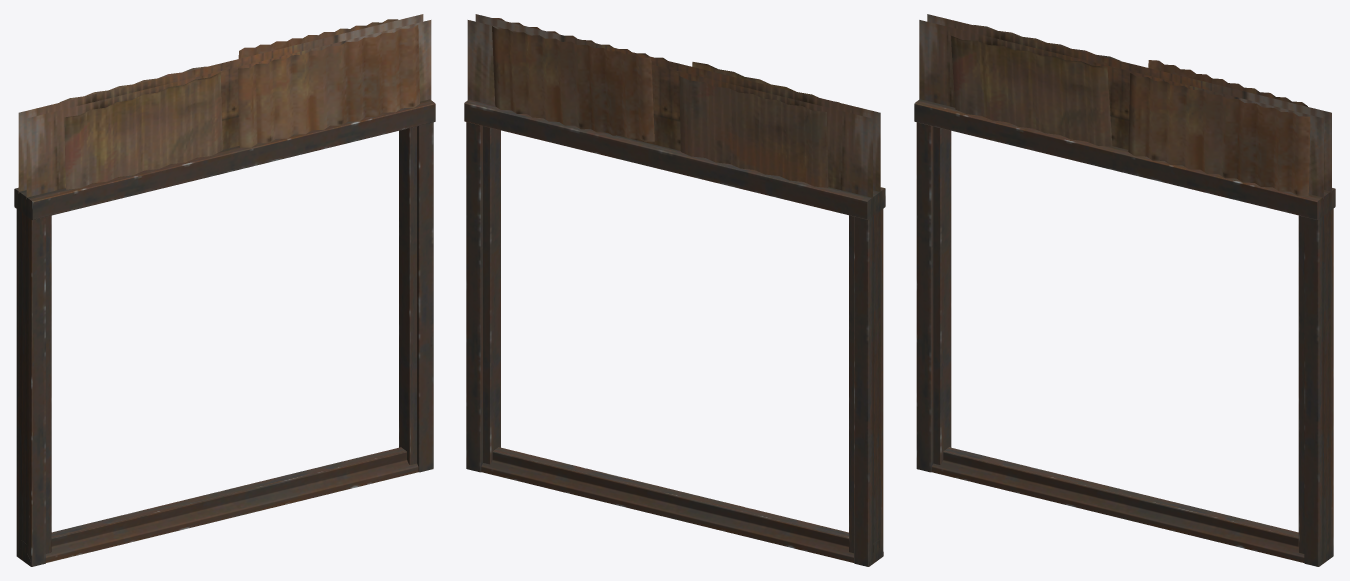
The model's file is metal_double_door.gltf.
3 renders of one model, left to right at view 1: azimuth 30°, elevation 25°; view 2: azimuth 150°, elevation 25°; view 3: azimuth 330°, elevation 25°, orthographic.
Parts seen in each view (by area): view 1: Collection.smd; view 2: Collection.smd; view 3: Collection.smd.
Boxes of the visible parts, left/top/right/bottom form: Collection.smd: left=14, top=14, right=435, bottom=566; Collection.smd: left=464, top=14, right=885, bottom=566; Collection.smd: left=914, top=14, right=1335, bottom=566.
Bounding box in the file's own units: 2.22 × 2.38 × 0.1747.
1 material, 1 textured.
